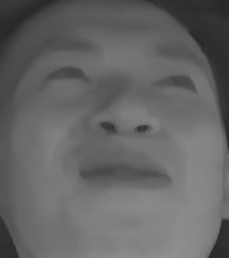eye: (145, 67, 202, 99), (39, 62, 92, 91)
mouth: (79, 146, 178, 199)
